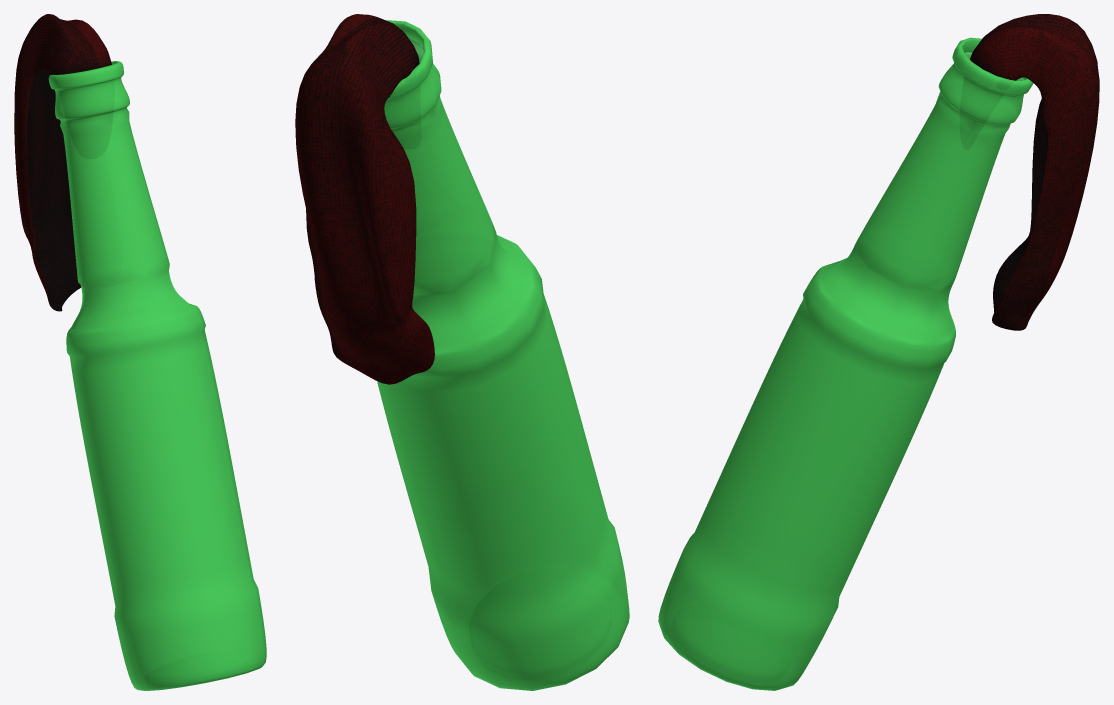
Rendered from molotov.glb.
3 renders of one model, left to right at view 1: azimuth 30°, elevation 25°; view 2: azimuth 150°, elevation 25°; view 3: azimuth 270°, elevation 25°, orthographic. The views are drawn at different scales.
Visible parts, largest first — view 1: Bottle, Rag; view 2: Bottle, Rag; view 3: Bottle, Rag.
Part boxes in pixels (x1=…): Bottle: x1=48, y1=61, x2=266, y2=690; Rag: x1=14, y1=14, x2=111, y2=311; Bottle: x1=377, y1=20, x2=629, y2=690; Rag: x1=295, y1=14, x2=434, y2=384; Bottle: x1=658, y1=37, x2=1033, y2=690; Rag: x1=970, y1=14, x2=1099, y2=330.
Size of the model in its own units: 0.9979 by 4.35 by 2.64.
Materials: 2 (1 with a texture image).
